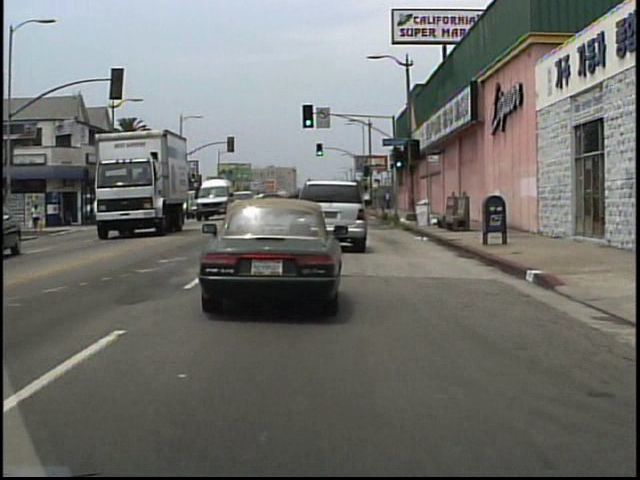person: (32, 203, 44, 231), (382, 189, 392, 210)
